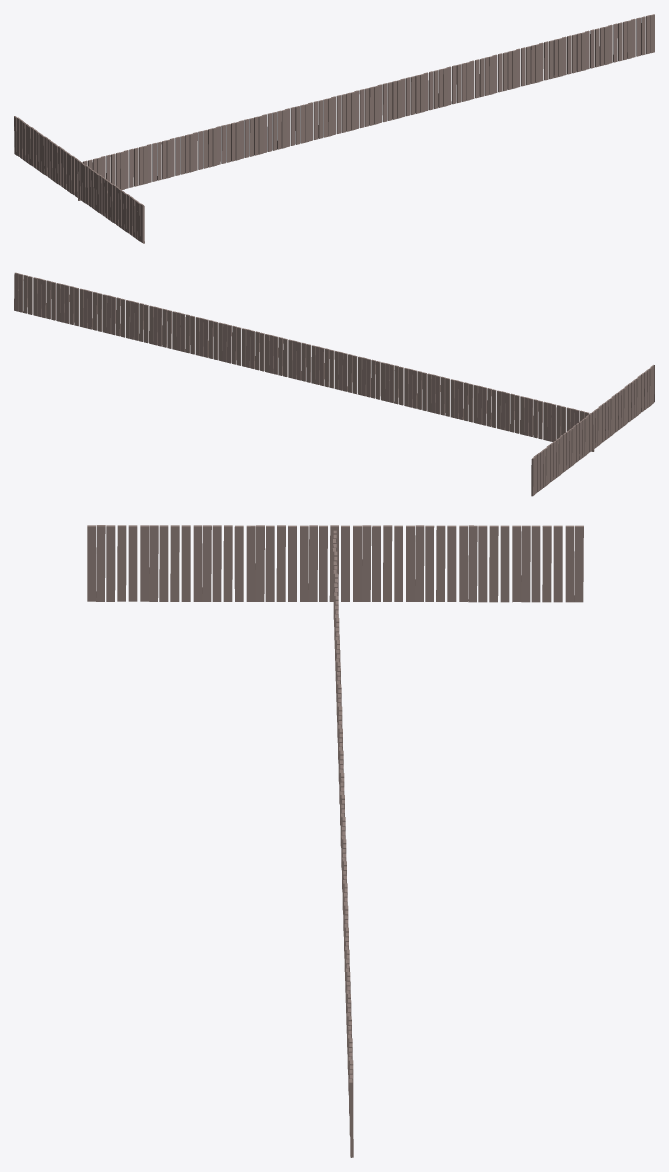
File: TPCS_Zaun_005.fbx
3 views of the same model, one above another, from view 1: azimuth 30°, elevation 25°; view 2: azimuth 150°, elevation 25°; view 3: azimuth 270°, elevation 25° (orthographic). The views are drawn at different scales.
Visible parts, largest first — view 1: Cube.008; view 2: Cube.008; view 3: Cube.008.
Boxes of the visible parts, x1,y1,x2,y2 form: Cube.008: (14,14,654,243); Cube.008: (14,272,654,496); Cube.008: (87,525,583,1157).
Size of the model in its own units: 1372 by 94.57 by 515.
